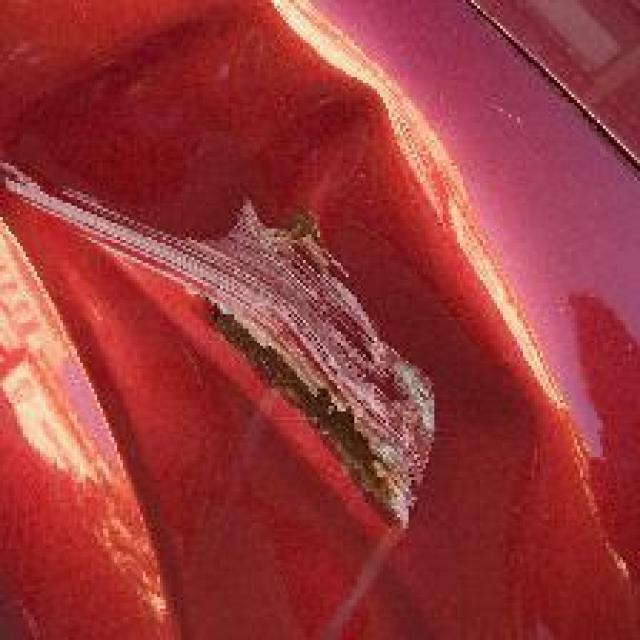damaged: (0, 157, 440, 534)
